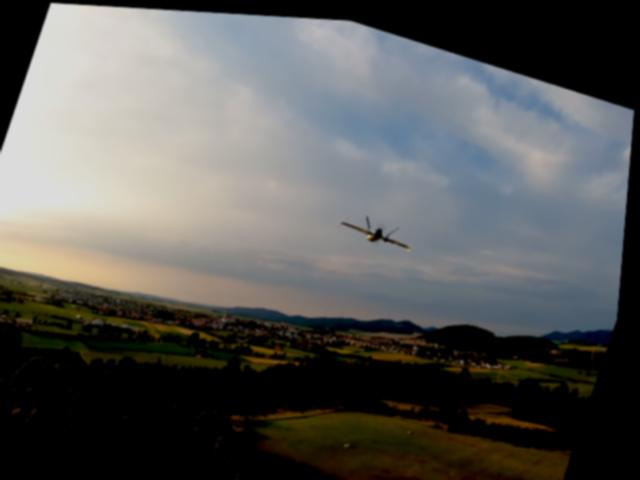plane: (338, 204, 420, 252)
